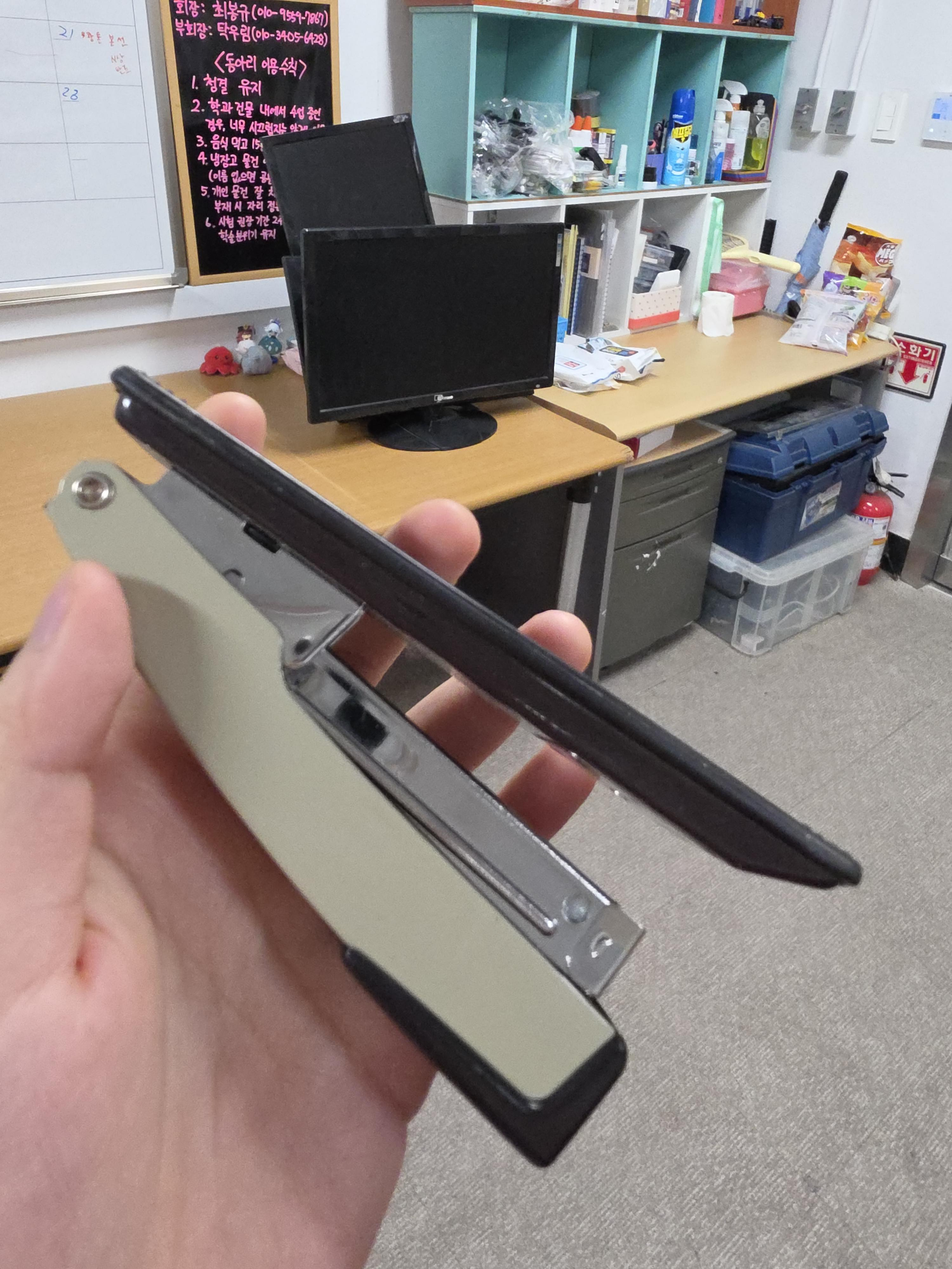stapler: (43, 364, 863, 1167)
tissue: (627, 269, 682, 332), (698, 291, 734, 338)
